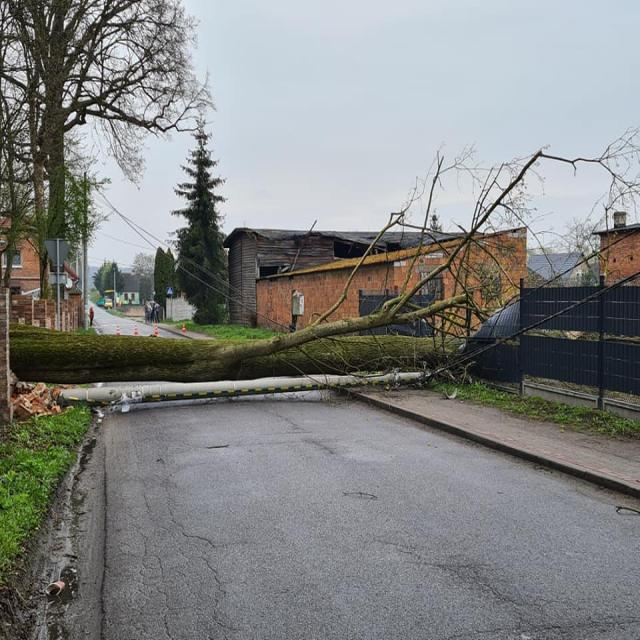fallen_tree: (10, 287, 478, 383)
